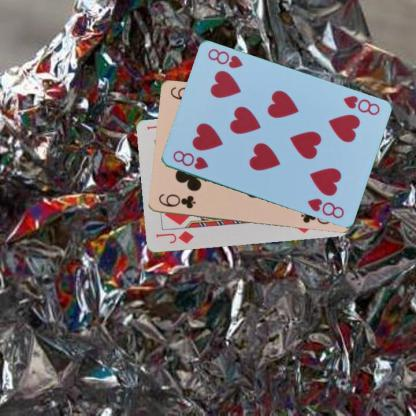6c: (156, 192, 196, 210)
8h: (340, 93, 380, 117), (170, 148, 210, 171)
Jd: (153, 228, 195, 245)
